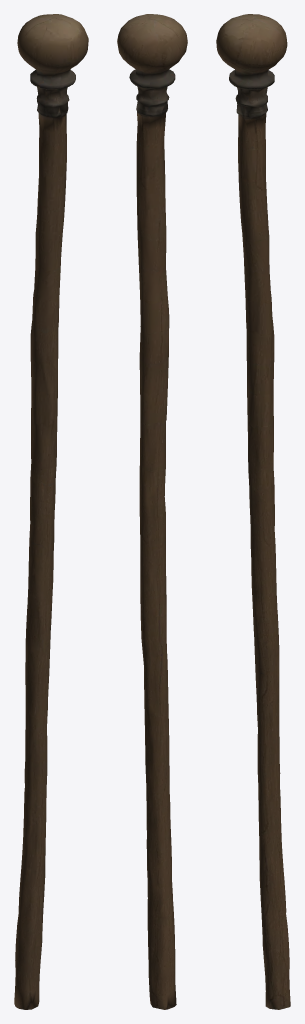
Rendered from staff.glb.
3 views of the same model, side by side, from view 1: azimuth 90°, elevation 25°; view 2: azimuth 210°, elevation 25°; view 3: azimuth 270°, elevation 25° (orthographic).
Size of the model in its own units: 0.1225 by 1.9 by 0.1301.
1 material, 1 textured.
